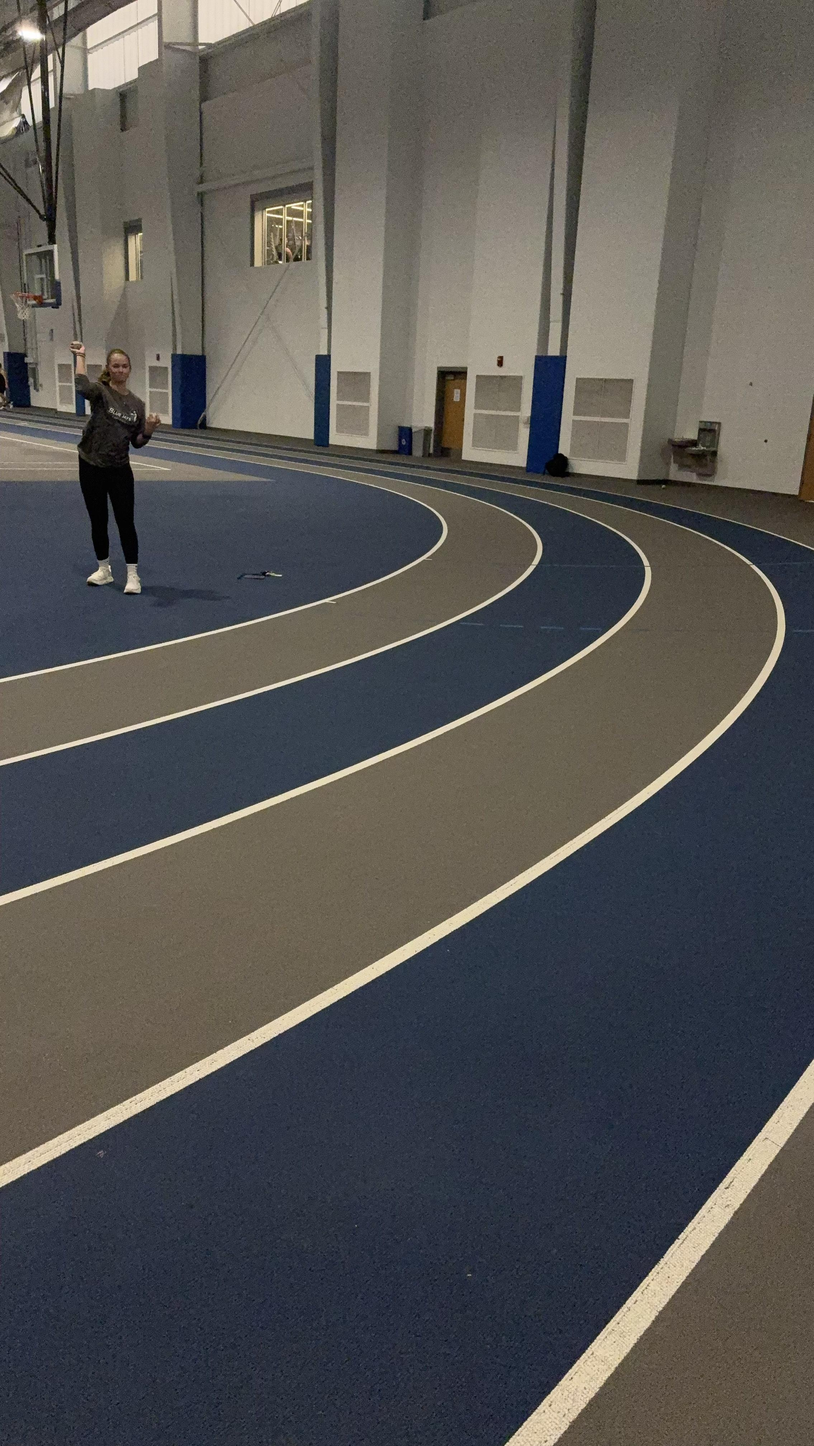Baseball: (66, 338, 87, 351)
